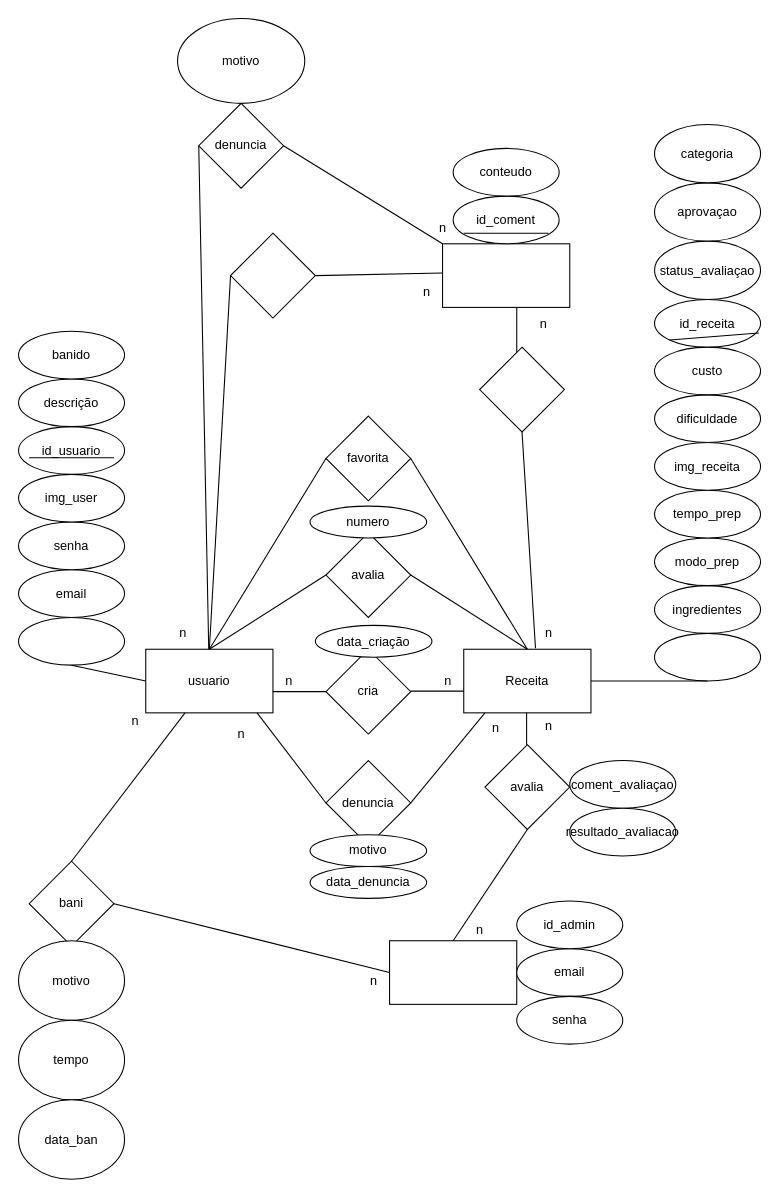
This 779x1198 diagram has some shape labels left out. Here are the shapes that lost their labels. From the top down, the centre of each, then its label:
At (x=272, y=275): "faz".
At (x=505, y=275): "comentarios".
At (x=521, y=389): "tem".
At (x=71, y=640): "nome_usuario".
At (x=707, y=656): "nome_receita".
At (x=452, y=972): "Admin".
